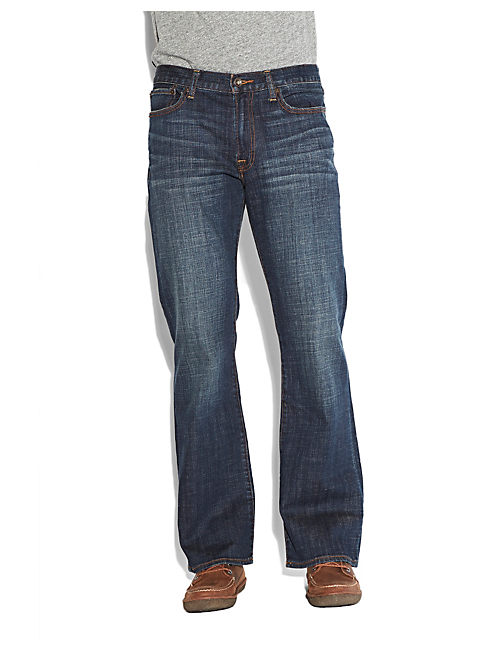Jeans: (136, 67, 367, 569)
